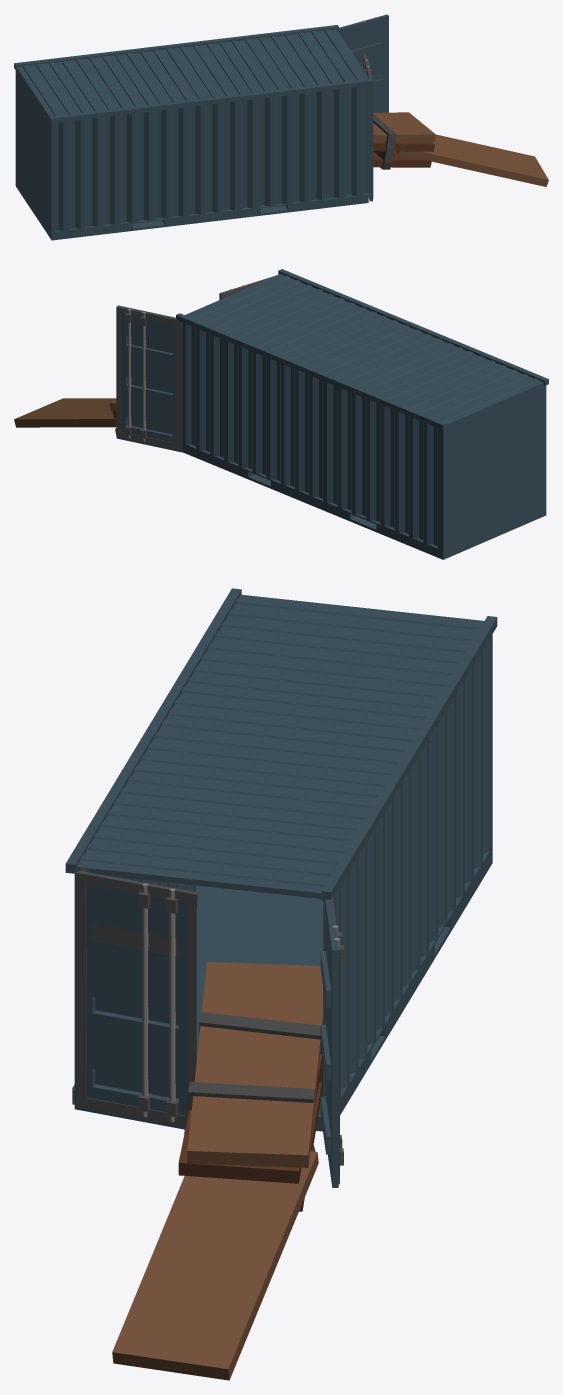
The model's file is ContainerB.fbx.
3 views of the same model, one above another, from view 1: azimuth 30°, elevation 25°; view 2: azimuth 150°, elevation 25°; view 3: azimuth 270°, elevation 25° (orthographic). The views are drawn at different scales.
Visible parts, largest first — view 1: ContainerB, Steam; view 2: ContainerB, Steam; view 3: ContainerB, Steam.
Part boxes in pixels (x1=…): ContainerB: x1=14, y1=14, x2=388, y2=240; Steam: x1=373, y1=112, x2=548, y2=186; ContainerB: x1=116, y1=269, x2=548, y2=559; Steam: x1=14, y1=398, x2=116, y2=434; ContainerB: x1=65, y1=588, x2=497, y2=1187; Steam: x1=112, y1=962, x2=322, y2=1380.
Bounding box in the file's own units: 1007 × 322 × 390.
